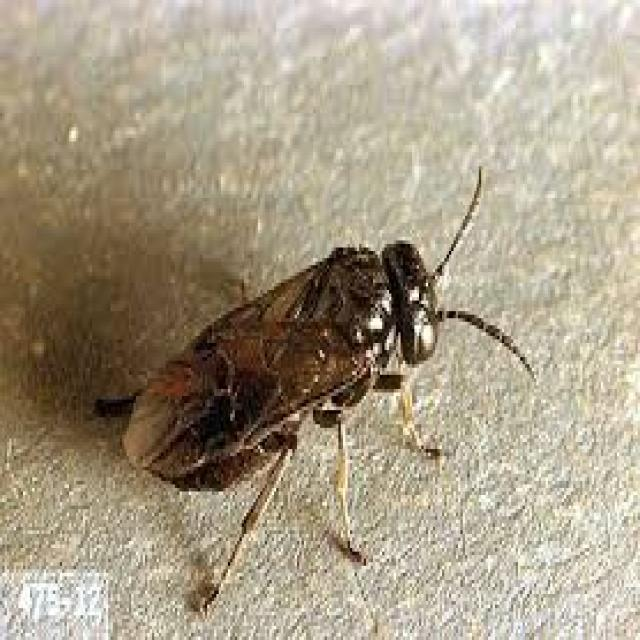Saw Fly: (90, 158, 548, 627)
